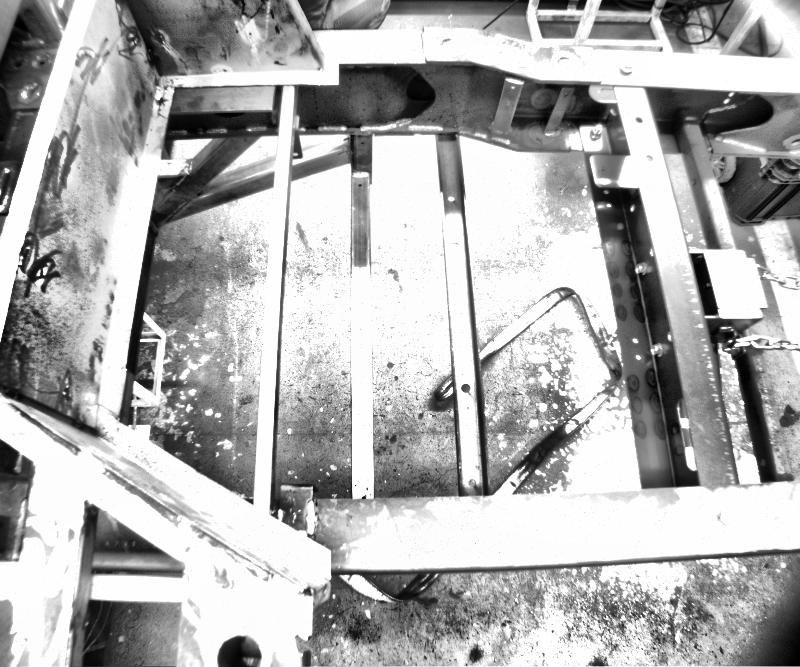bolt: (618, 56, 634, 75), (588, 122, 602, 139), (649, 341, 663, 358), (634, 262, 646, 274)
bracket: (586, 153, 638, 193), (276, 477, 320, 521), (493, 77, 521, 137), (542, 84, 572, 139), (280, 116, 308, 158)
hole: (670, 395, 704, 471), (214, 633, 260, 665), (458, 380, 469, 390), (634, 115, 644, 123), (644, 153, 654, 161), (468, 478, 478, 485), (447, 194, 455, 201), (604, 200, 612, 207), (630, 336, 638, 342), (628, 205, 636, 211), (600, 166, 606, 173), (292, 151, 300, 156), (634, 353, 640, 359), (356, 182, 362, 187), (602, 189, 608, 193), (342, 137, 349, 140), (563, 91, 567, 96), (510, 83, 514, 88), (359, 140, 363, 143)
